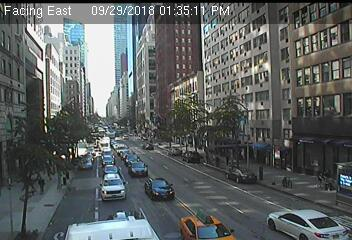car: (267, 209, 351, 240), (180, 212, 235, 240), (144, 177, 175, 201), (100, 174, 125, 201), (226, 167, 257, 184), (129, 160, 148, 176), (102, 165, 120, 177), (182, 151, 199, 163), (125, 154, 141, 166), (78, 157, 92, 169), (101, 155, 114, 167), (167, 148, 183, 157), (83, 153, 93, 162), (142, 143, 154, 150)
